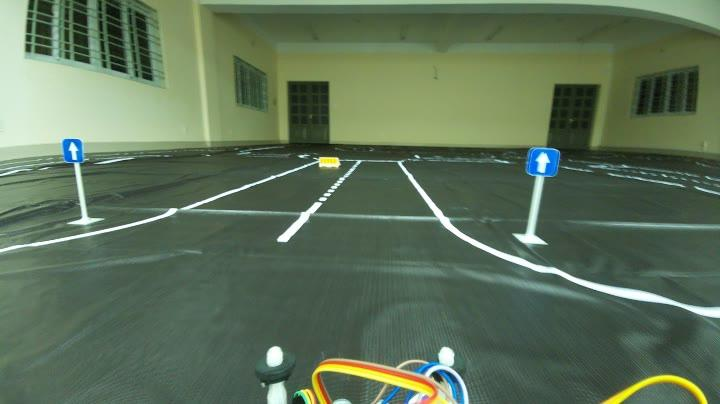onewayroad: (523, 145, 563, 182), (52, 133, 91, 167)
roadblock: (312, 154, 344, 174)
